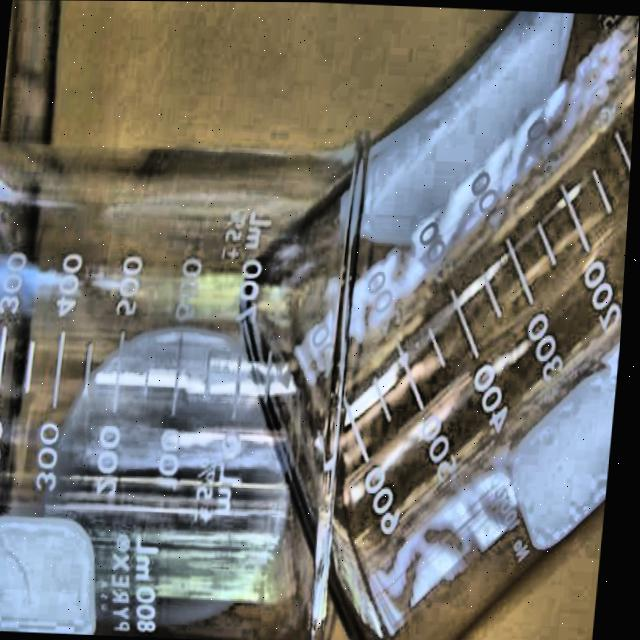glass: (339, 9, 639, 640), (0, 132, 361, 640)
